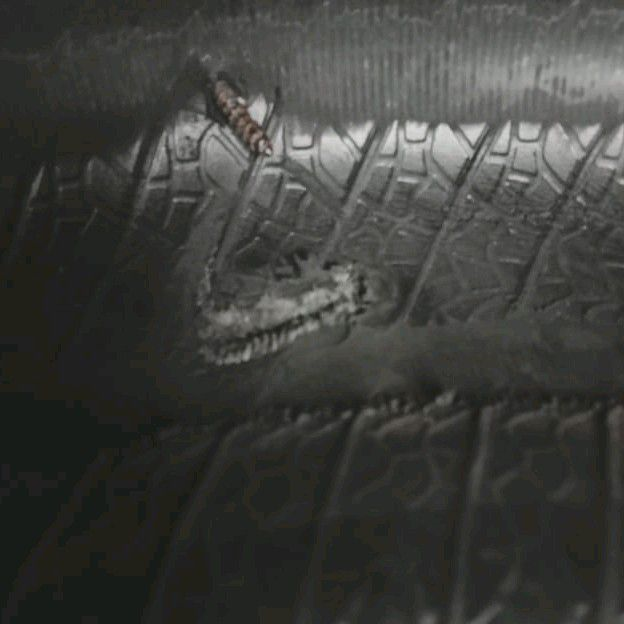CBU: (184, 229, 398, 375)
